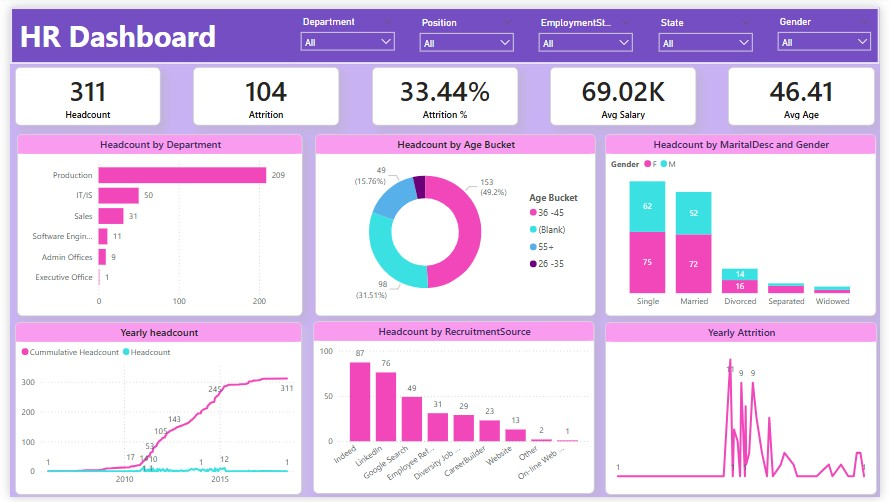

What the dashboard file says about the page in this screenshot:
{"tool":"powerbi","page":{"name":"Page 1","canvas":[1280,720],"ordinal":0},"visuals":[{"type":"shape","box":[0,0,1279.4,84.1],"z":0},{"type":"card","fields":{"Values":["Measure.Headcount"]},"box":[7.2,88.4,214.5,85.5],"z":1000},{"type":"card","fields":{"Values":["Measure.Attrition"]},"box":[269.2,88.4,215,86],"z":2000},{"type":"card","fields":{"Values":["Measure.Attrition %"]},"box":[531.6,88.4,215,86],"z":3000},{"type":"card","fields":{"Values":["Measure.Avg Salary"]},"box":[794.1,88.4,215,86],"z":4000},{"type":"card","fields":{"Values":["HRDataset_v14.Avg Age"]},"box":[1056.5,88.4,215.9,85.5],"z":5000},{"type":"clusteredBarChart","fields":{"Y":["Measure.Headcount"],"Category":["HRDataset_v14.Department"]},"box":[10.1,187,420.3,268.1],"z":6000},{"type":"donutChart","fields":{"Category":["HRDataset_v14.Age Bucket"],"Y":["Measure.Headcount"]},"box":[447.8,187,413,268.1],"z":7000},{"type":"columnChart","fields":{"Category":["HRDataset_v14.MaritalDesc"],"Y":["Measure.Headcount"],"Series":["HRDataset_v14.Gender"]},"box":[875.4,187,398.6,268.1],"z":8000},{"type":"lineChart","title":"Yearly headcount","fields":{"Category":["HRDataset_v14.DateofHire"],"Y":["Measure.Cummulative Headcount","Measure.Headcount"]},"box":[7.9,463.5,422.2,254],"z":9000},{"type":"lineChart","title":"Yearly Attrition ","fields":{"Y":["Measure.Attrition"],"Category":["HRDataset_v14.DateofHire"]},"box":[874.6,463.5,400,254],"z":10000},{"type":"columnChart","fields":{"Y":["Measure.Headcount"],"Category":["HRDataset_v14.RecruitmentSource"]},"box":[446,461.9,414.3,254],"z":11000},{"type":"slicer","fields":{"Values":["HRDataset_v14.Department"]},"box":[417.4,8.7,158,68.1],"z":12000},{"type":"slicer","fields":{"Values":["HRDataset_v14.Position"]},"box":[592.8,10.1,158,68.1],"z":13000},{"type":"slicer","fields":{"Values":["HRDataset_v14.EmploymentStatus"]},"box":[768.2,10.1,158,68.1],"z":14000},{"type":"slicer","fields":{"Values":["HRDataset_v14.State"]},"box":[943.6,10.1,158,68.1],"z":15000},{"type":"slicer","fields":{"Values":["HRDataset_v14.Gender"]},"box":[1119,9.5,157.1,68.3],"z":16000},{"type":"textbox","box":[9.5,7.9,407.9,68.3],"z":17000}]}

Visuals, with their boxes in screenshot pixels (x1, y1, x2, y2), scaled from the page's 1280x720 canvas onto the 889x502 screenshot:
shape: bbox(0, 0, 888, 59)
card - Measure.Headcount: bbox(5, 62, 154, 121)
card - Measure.Attrition: bbox(187, 62, 336, 122)
card - Measure.Attrition %: bbox(369, 62, 519, 122)
card - Measure.Avg Salary: bbox(552, 62, 701, 122)
card - HRDataset_v14.Avg Age: bbox(734, 62, 884, 121)
clusteredBarChart - Measure.Headcount x HRDataset_v14.Department: bbox(7, 130, 299, 317)
donutChart - HRDataset_v14.Age Bucket x Measure.Headcount: bbox(311, 130, 598, 317)
columnChart - HRDataset_v14.MaritalDesc x Measure.Headcount: bbox(608, 130, 885, 317)
"Yearly headcount" lineChart: bbox(5, 323, 299, 500)
"Yearly Attrition " lineChart: bbox(607, 323, 885, 500)
columnChart - Measure.Headcount x HRDataset_v14.RecruitmentSource: bbox(310, 322, 598, 499)
slicer - HRDataset_v14.Department: bbox(290, 6, 400, 54)
slicer - HRDataset_v14.Position: bbox(412, 7, 521, 55)
slicer - HRDataset_v14.EmploymentStatus: bbox(534, 7, 643, 55)
slicer - HRDataset_v14.State: bbox(655, 7, 765, 55)
slicer - HRDataset_v14.Gender: bbox(777, 7, 886, 54)
textbox: bbox(7, 6, 290, 53)
